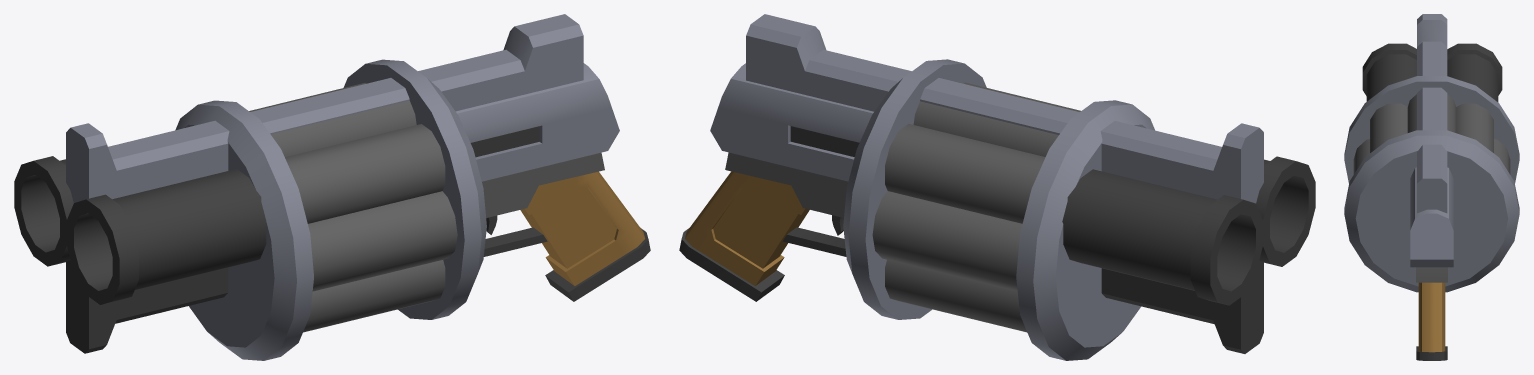
Rendered from Grenade Launcher.glb.
The picture shows the model from 3 angles, left to right: view 1: azimuth 30°, elevation 25°; view 2: azimuth 150°, elevation 25°; view 3: azimuth 270°, elevation 25°; orthographic projection. The views are drawn at different scales.
Visible parts, largest first — view 1: Grenade Launcher; view 2: Grenade Launcher; view 3: Grenade Launcher.
Part boxes in pixels (left/top/right/bottom): Grenade Launcher: left=14, top=14, right=650, bottom=360; Grenade Launcher: left=679, top=14, right=1315, bottom=360; Grenade Launcher: left=1344, top=14, right=1519, bottom=360.
Bounding box in the file's own units: 0.4241 × 0.1954 × 0.1682.
